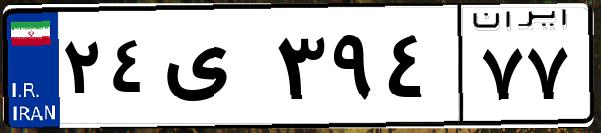2: (57, 26, 110, 100)
3: (270, 28, 330, 110)
4: (385, 28, 445, 110), (110, 28, 158, 98)
7: (475, 38, 525, 113), (525, 38, 570, 115)
9: (330, 28, 385, 110)
ی: (158, 20, 270, 120)
